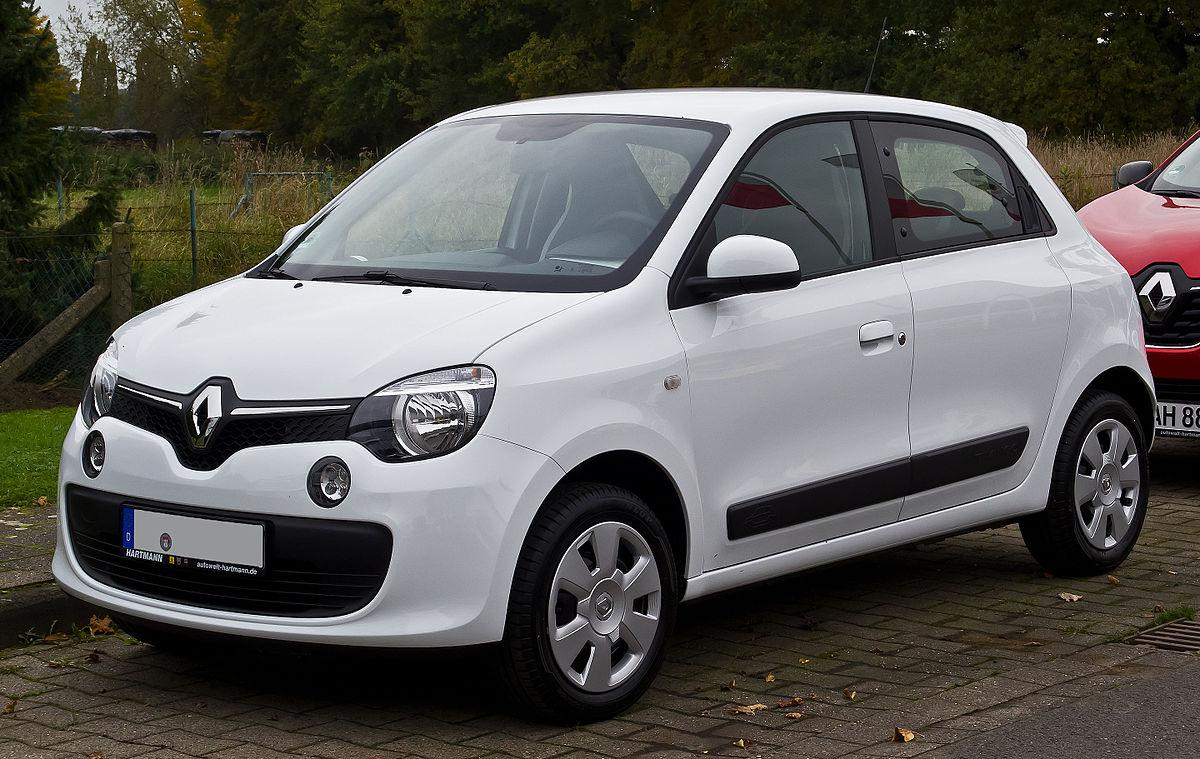Renault: (177, 367, 240, 464), (1128, 260, 1186, 331)
